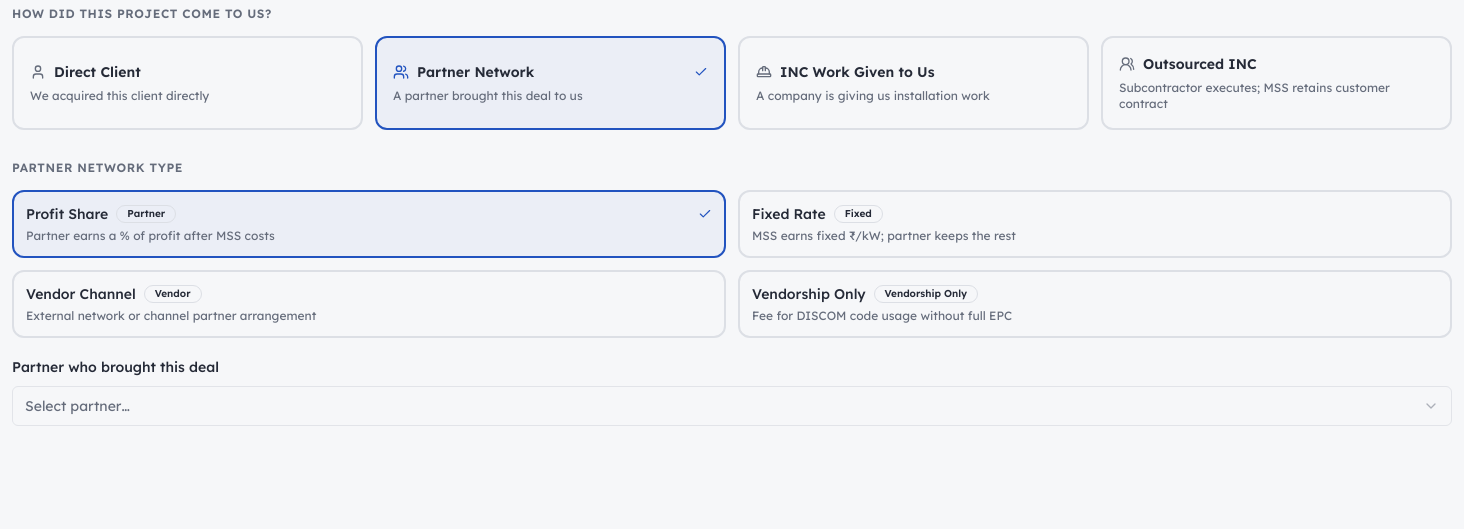
Test: LeadPathStep › filters partners to profit-share and fixed-rate deal bringers
What coordinates should you click on to do the following:
click the dropdown
I would click on:
 (77, 406)
Its box is [12,386,1452,426].
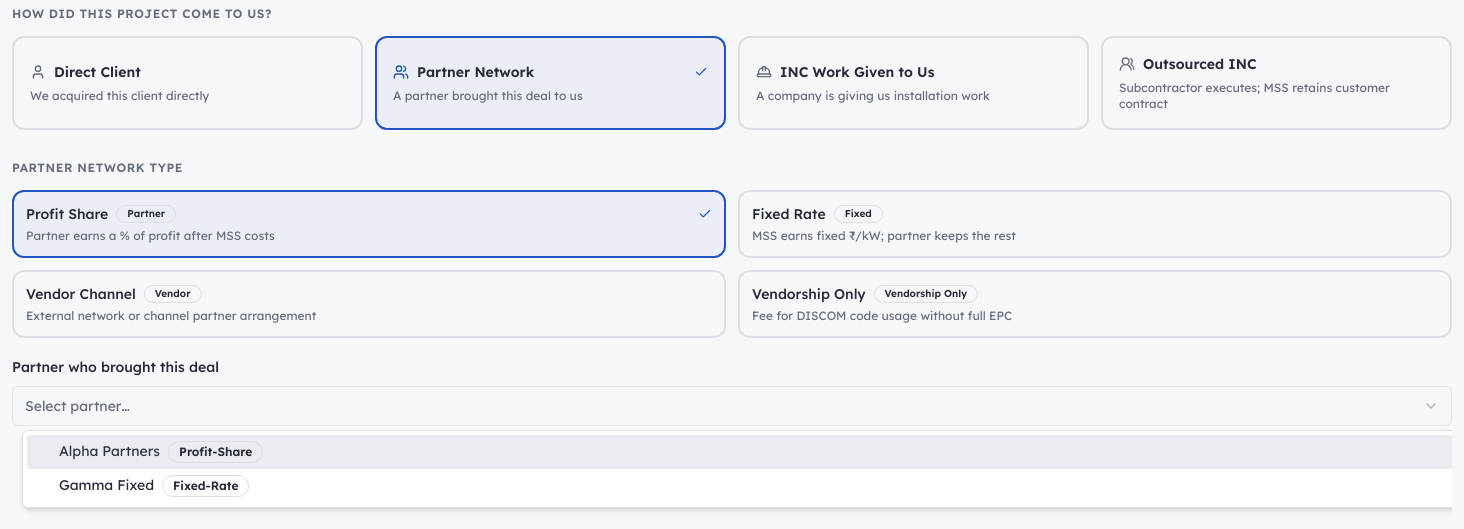
Check: the text "Alpha Partners" is shown, box [59,442,160,460]
Check: the text "Gamma Fixed" is shown, box [59,476,154,494]
